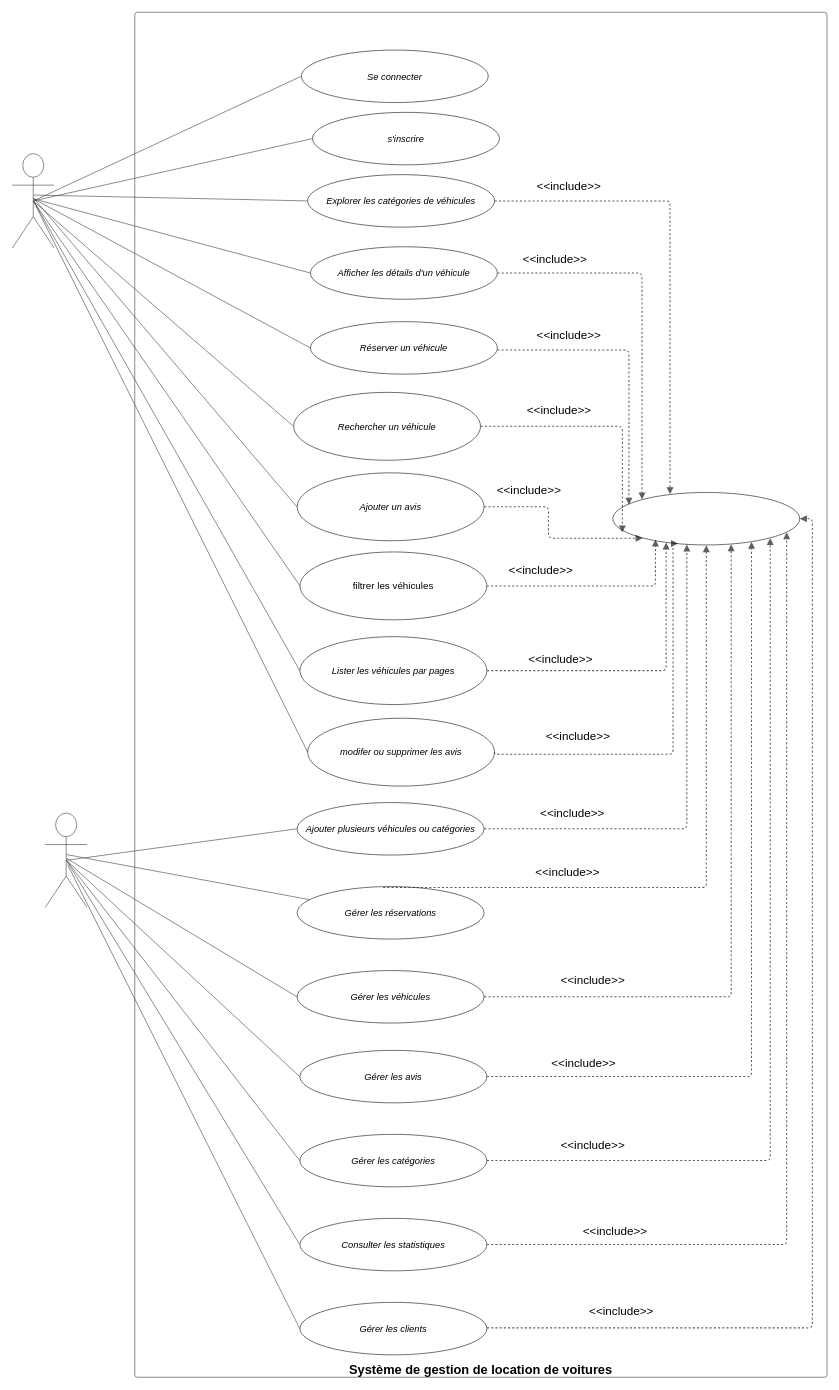
The diagram is 839 pixels wide and 1390 high, and some of its shapes have lost their labels. Each missing label, with the centre of its shape:
"Admin" belongs at pixel 66 859.
"Client" belongs at pixel 33 200.
"S'authentifier" belongs at pixel 706 518.
